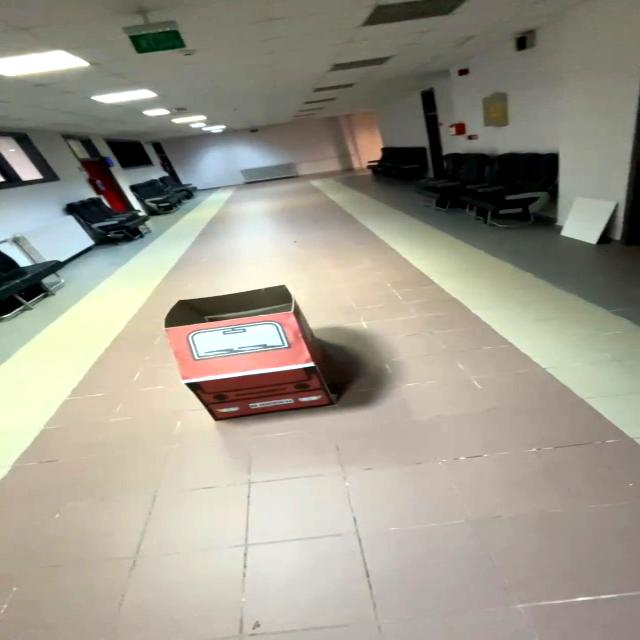red_car: (146, 273, 355, 431)
